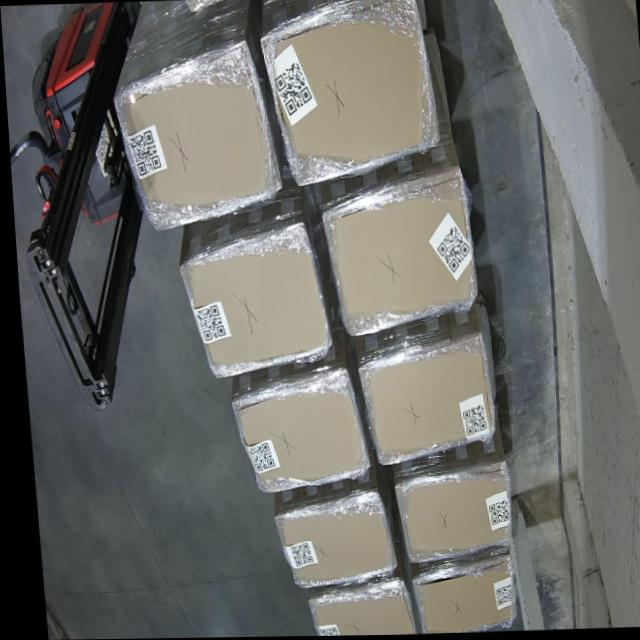pallet: (262, 0, 439, 190), (112, 39, 277, 228), (319, 177, 472, 335), (176, 224, 325, 374), (351, 334, 492, 464), (229, 369, 364, 491), (267, 488, 390, 585), (388, 469, 505, 559), (405, 554, 510, 634), (298, 579, 411, 637)
